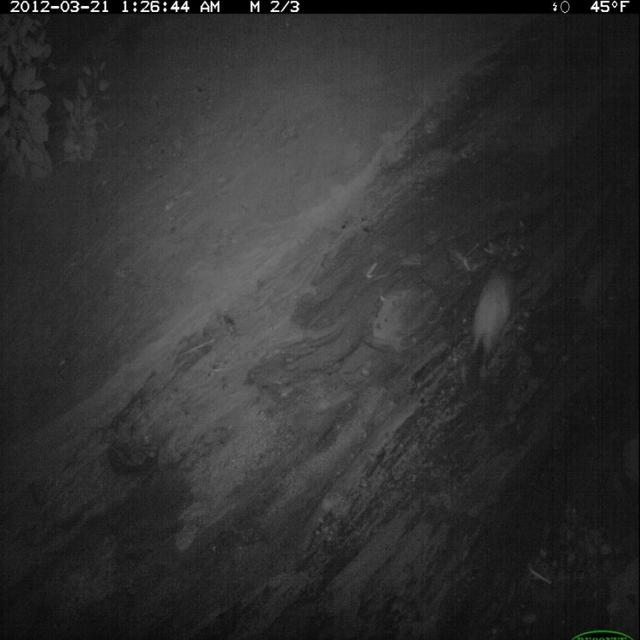opossum: (462, 262, 522, 375)
